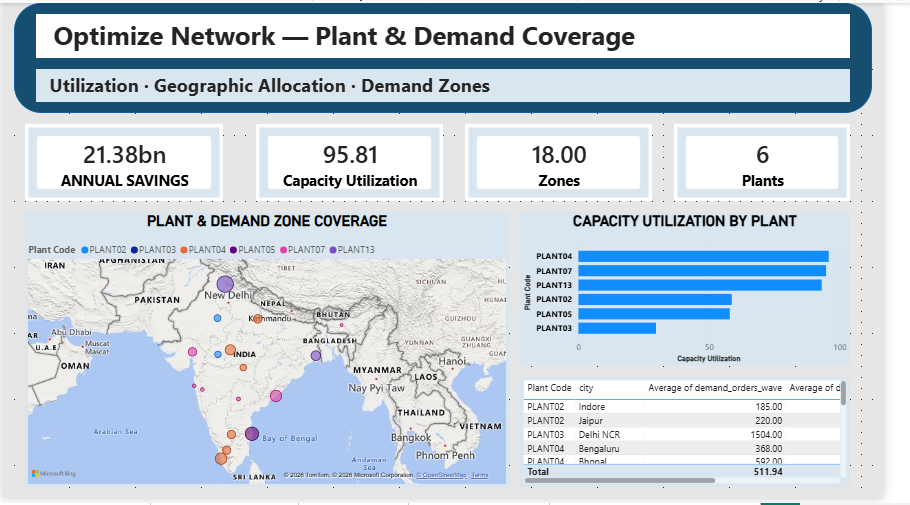

The page's visual inventory and layout, read from the dashboard file:
{"tool":"powerbi","page":{"name":"Optimized Network","canvas":[1280,720],"ordinal":1},"visuals":[{"type":"map","title":"PLANT & DEMAND ZONE COVERAGE","fields":{"Category":["model_a_optimized_assignments.city"],"Series":["model_a_optimized_assignments.Plant Code"],"Size":["Sum(model_a_optimized_assignments.demand_orders_wave)"]},"box":[32,304,704,400],"z":0},{"type":"clusteredBarChart","title":"CAPACITY UTILIZATION BY PLANT","fields":{"Category":["optimized_capacity_utilization.Plant Code"],"Y":["Avg(optimized_capacity_utilization.Capacity_Utilization_Pct)"]},"box":[752,304,480,224],"z":1000},{"type":"tableEx","fields":{"Values":["model_a_optimized_assignments.Plant Code","model_a_optimized_assignments.city","Avg(model_a_optimized_assignments.demand_orders_wave)","Avg(model_a_optimized_assignments.demand_units_wave)","Avg(model_a_optimized_assignments.freight_cost_wave)"]},"box":[752,544,480,160],"z":2000},{"type":"shape","box":[16,0,1248,160],"z":3000},{"type":"textbox","box":[48,16,1184,64],"z":4000},{"type":"textbox","box":[48,96,1184,48],"z":5000},{"type":"cardVisual","fields":{"Data":["Avg(network_optimization_kpis.Zones)"]},"box":[672,176,272,112],"z":6000},{"type":"cardVisual","fields":{"Data":["Avg(network_optimization_kpis.Savings_INR)"]},"box":[32,176,288,112],"z":7000},{"type":"cardVisual","fields":{"Data":["Max(optimized_capacity_utilization.Capacity_Utilization_Pct)"]},"box":[368,176,272,112],"z":8000},{"type":"cardVisual","fields":{"Data":["Min(network_optimization_kpis.Open_Plants)"]},"box":[976,176,256,112],"z":9000}]}

Visuals, with their boxes in screenshot pixels (x1, y1, x2, y2), scaled from the page's 1280x720 canvas onto the 910x505 screenshot:
"PLANT & DEMAND ZONE COVERAGE" map: l=23, t=213, r=523, b=494
"CAPACITY UTILIZATION BY PLANT" clusteredBarChart: l=535, t=213, r=876, b=370
tableEx - model_a_optimized_assignments.Plant Code x model_a_optimized_assignments.city: l=535, t=382, r=876, b=494
shape: l=11, t=0, r=899, b=112
textbox: l=34, t=11, r=876, b=56
textbox: l=34, t=67, r=876, b=101
cardVisual - Avg(network_optimization_kpis.Zones): l=478, t=123, r=671, b=202
cardVisual - Avg(network_optimization_kpis.Savings_INR): l=23, t=123, r=228, b=202
cardVisual - Max(optimized_capacity_utilization.Capacity_Utilization_Pct): l=262, t=123, r=455, b=202
cardVisual - Min(network_optimization_kpis.Open_Plants): l=694, t=123, r=876, b=202
